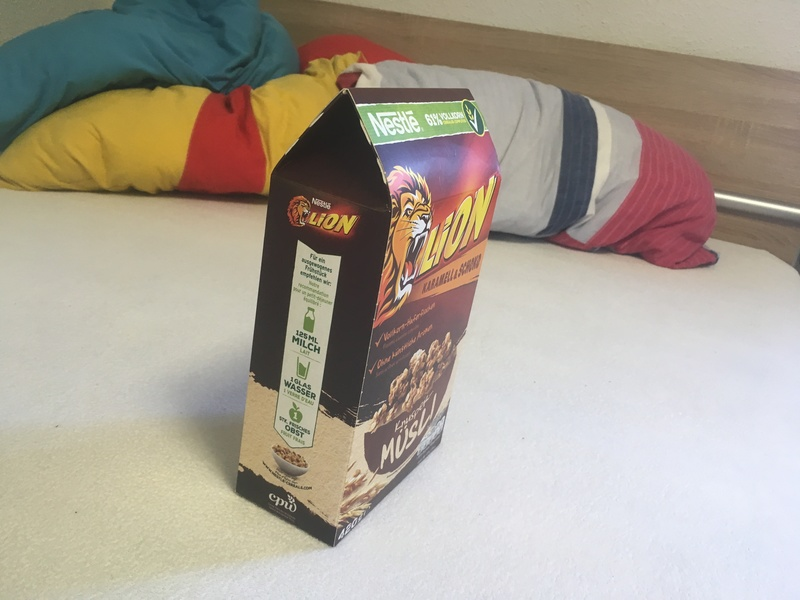cereals: (235, 87, 501, 547)
